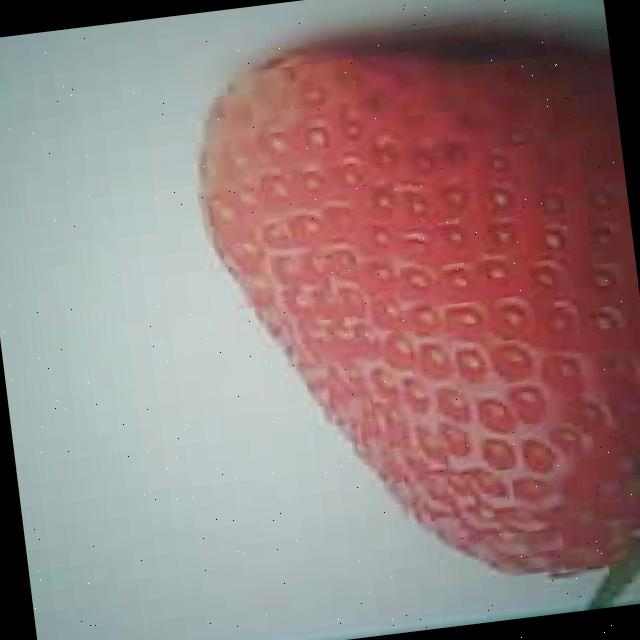strawberry: (181, 14, 640, 606)
